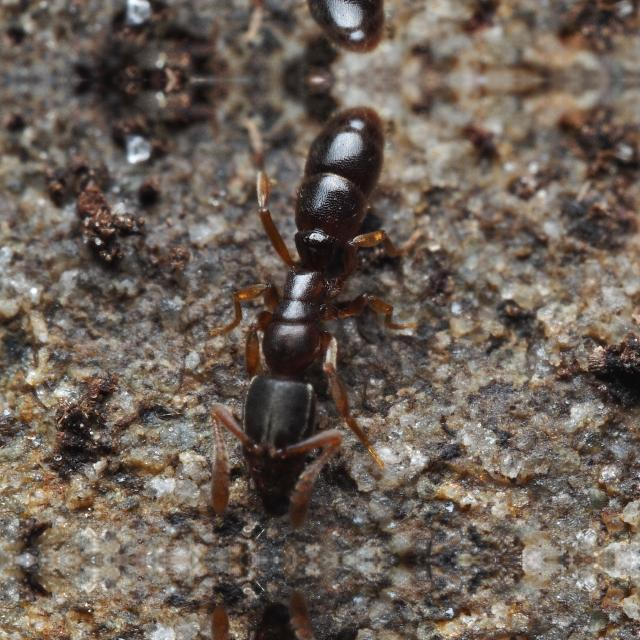Ponera: (183, 80, 433, 546)
